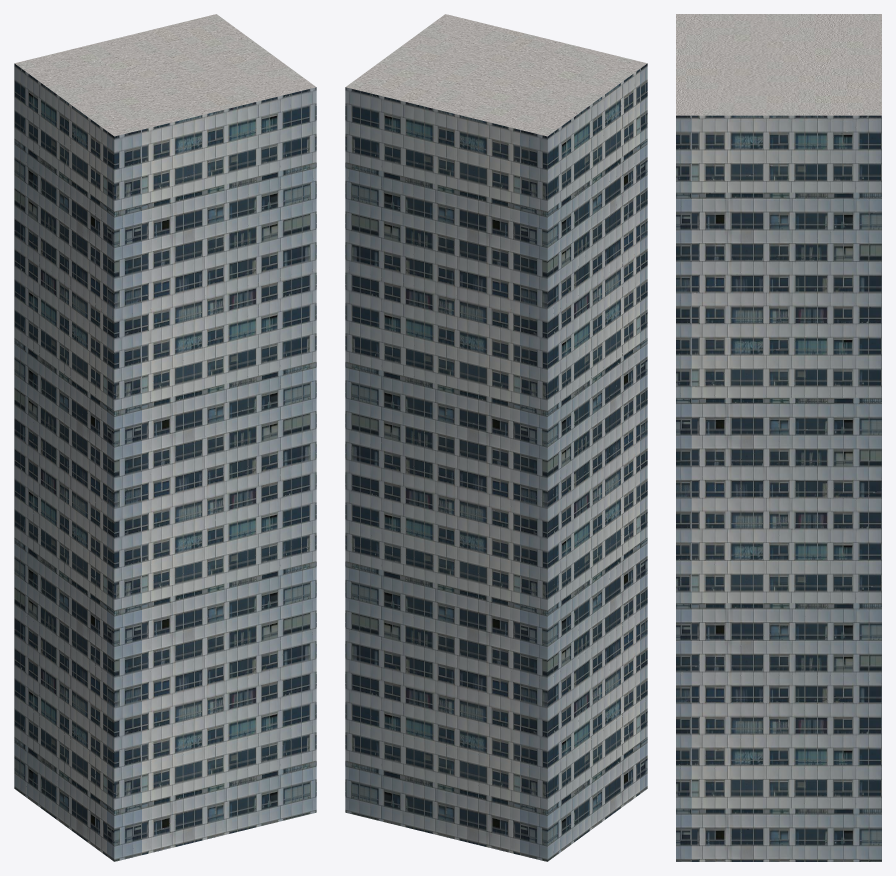
File: building_004.glb
3 views of the same model, side by side, from view 1: azimuth 30°, elevation 25°; view 2: azimuth 150°, elevation 25°; view 3: azimuth 270°, elevation 25° (orthographic). The views are drawn at different scales.
Visible parts, largest first — view 1: building_004; view 2: building_004; view 3: building_004.
Boxes of the visible parts, x1,y1,x2,y2 form: building_004: (14, 14, 316, 861); building_004: (345, 14, 647, 861); building_004: (676, 14, 881, 861).
Size of the model in its own units: 1400 by 4800 by 1200.
Materials: 2 (2 with a texture image).
